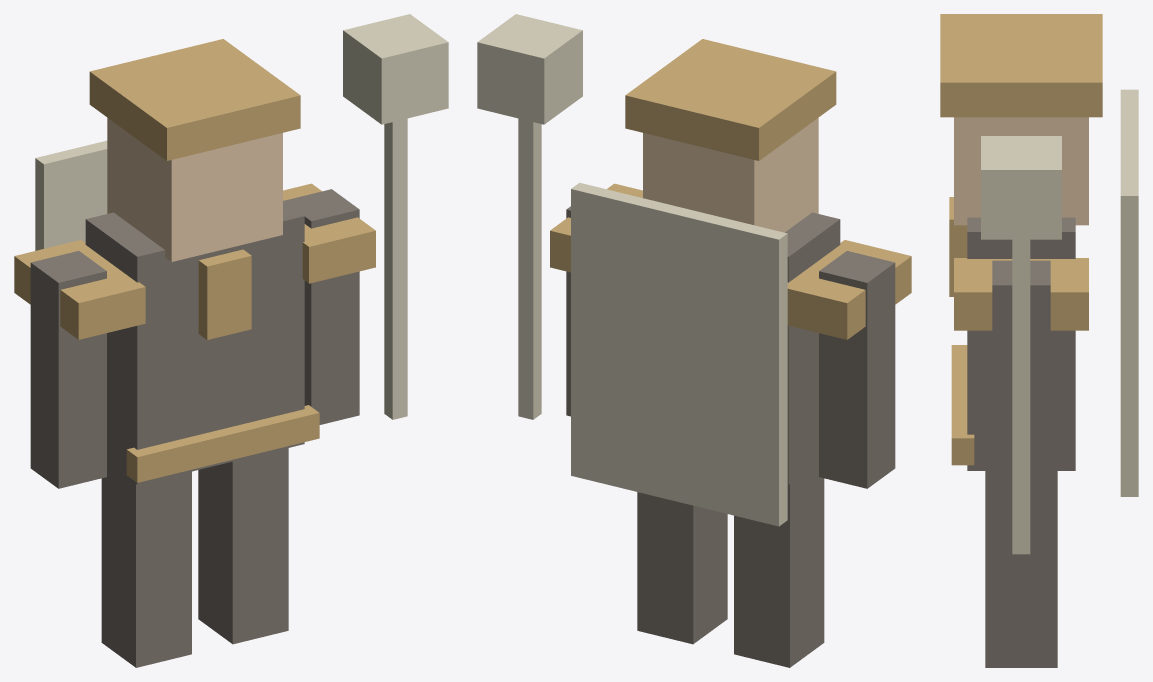
The model's file is 05_vexa_frostrelay_watcher_under_war.glb.
3 renders of one model, left to right at view 1: azimuth 30°, elevation 25°; view 2: azimuth 150°, elevation 25°; view 3: azimuth 270°, elevation 25°, orthographic. The views are drawn at different scales.
Parts seen in each view (by area): view 1: Vexa Frostrelay, Watcher under War; view 2: Vexa Frostrelay, Watcher under War; view 3: Vexa Frostrelay, Watcher under War.
Boxes of the visible parts, bbox=[...] form: Vexa Frostrelay, Watcher under War: bbox=[14, 14, 448, 667]; Vexa Frostrelay, Watcher under War: bbox=[477, 14, 911, 667]; Vexa Frostrelay, Watcher under War: bbox=[940, 14, 1138, 667].
Size of the model in its own units: 1.07 by 1.47 by 0.4545.
